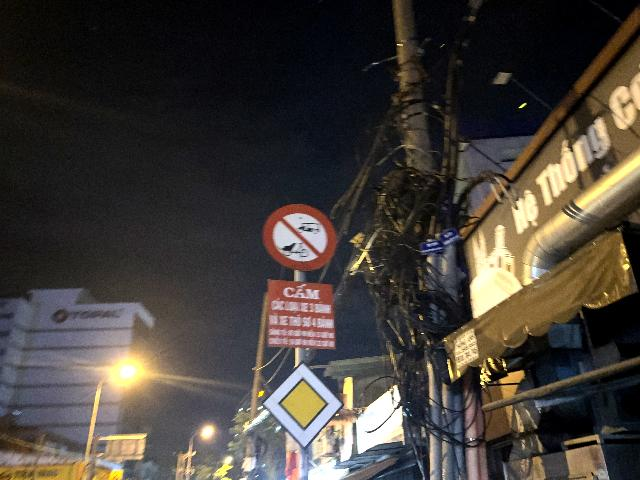bat-dau-duong-uu-tien: (260, 361, 344, 450)
cam-xe-3-banh-xe-tho-so-4-banh: (262, 204, 337, 271)
